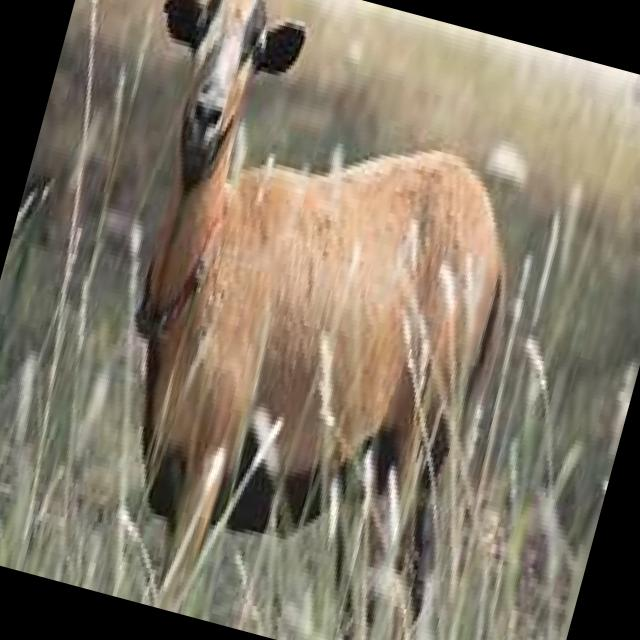sheep: (11, 0, 577, 640)
